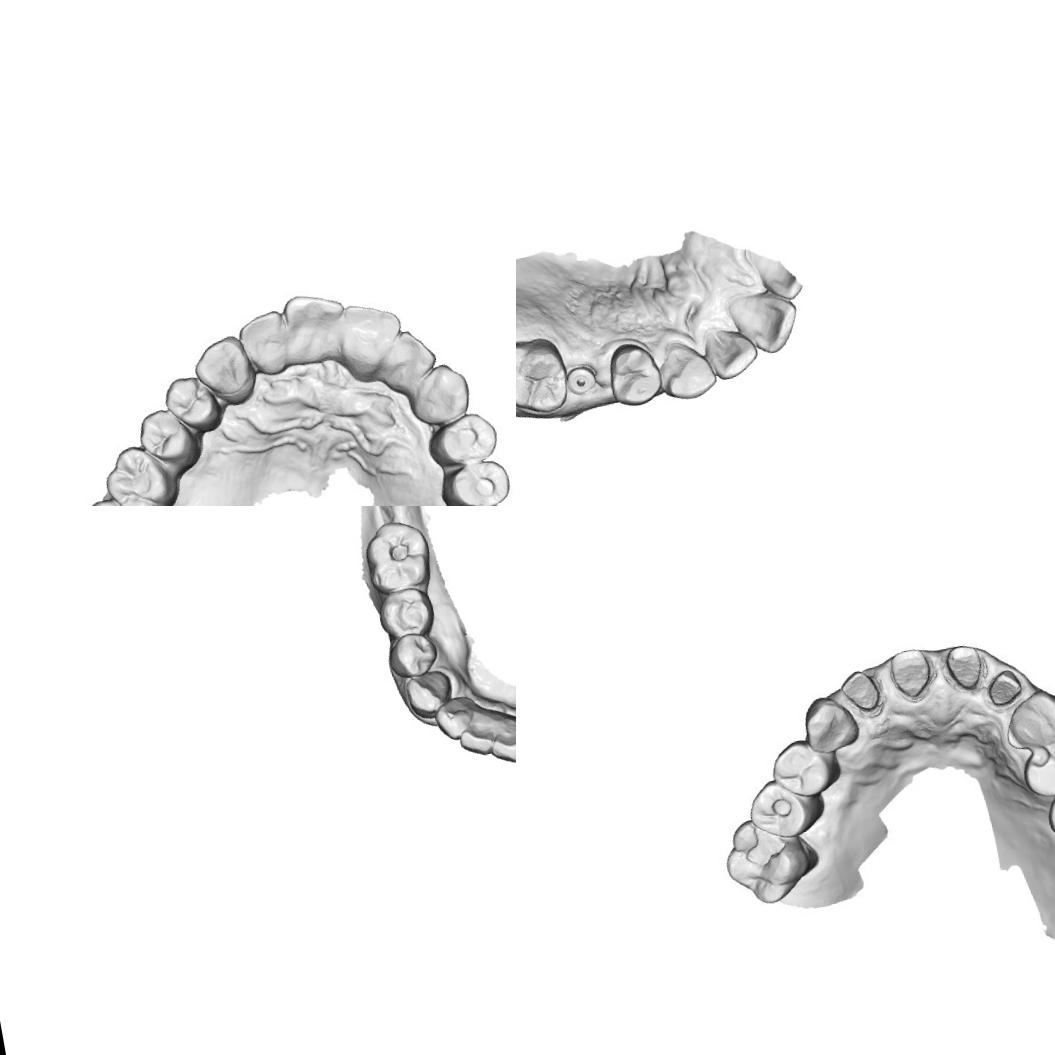canine: (187, 330, 260, 413), (402, 358, 475, 430), (652, 334, 720, 404), (795, 689, 864, 757), (994, 685, 1055, 753), (401, 666, 456, 720)
crown: (882, 640, 940, 704), (938, 636, 990, 696), (834, 664, 883, 717), (979, 662, 1028, 711)
implant: (562, 362, 600, 398)
incisor: (330, 294, 410, 386), (278, 284, 352, 368), (723, 285, 803, 361), (370, 322, 442, 394), (232, 306, 297, 381), (702, 322, 762, 383), (746, 254, 805, 305), (431, 692, 479, 743), (454, 712, 502, 758), (485, 721, 516, 768)
molar: (718, 809, 818, 911), (360, 514, 436, 597), (96, 437, 182, 506), (516, 332, 572, 419)
premolar: (764, 731, 845, 805), (424, 408, 504, 476), (742, 773, 817, 845), (132, 402, 200, 476), (160, 370, 228, 440), (602, 336, 664, 410), (434, 455, 515, 506), (374, 583, 437, 640), (384, 629, 442, 682), (1015, 729, 1055, 801)
